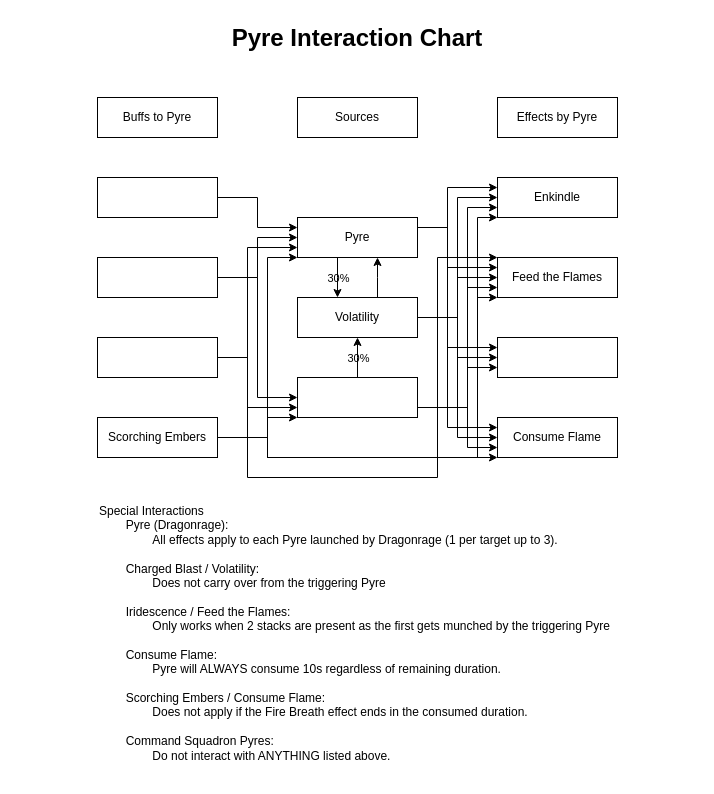
Some shapes in this 714 by 794 pixel diagram are drawn without their labels. The shapes that lost their labels are listed below. From the top down, each one's centre as x and y in pixels, then its label:
[157,197]: Titanic Wrath
[157,277]: Charged Blast
[157,357]: Iridescence
[557,357]: Causality
[357,397]: Pyre (Dragonrage)
